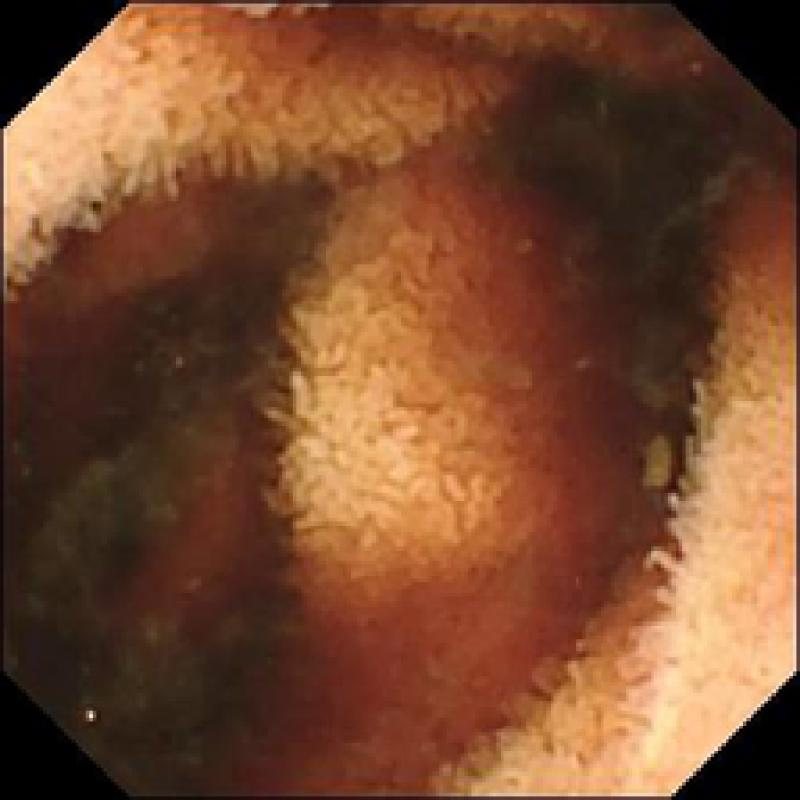bleeding: (136, 453, 278, 643)
